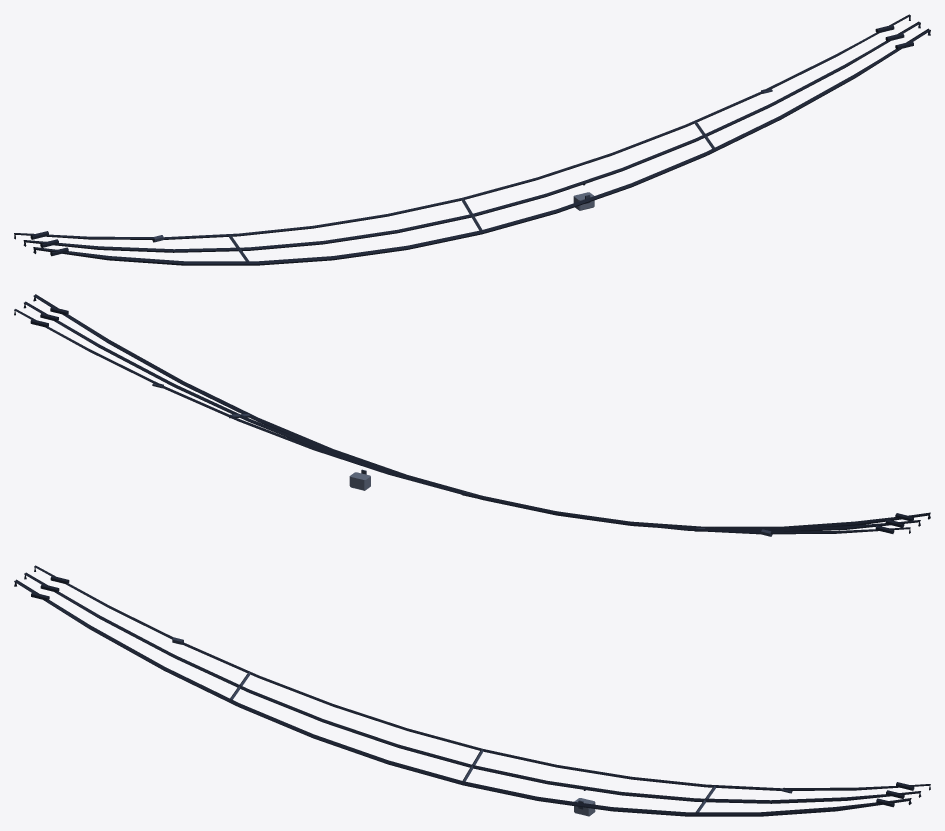
File: city_cable_span.glb
3 renders of one model, top to bottom at view 1: azimuth 30°, elevation 25°; view 2: azimuth 150°, elevation 25°; view 3: azimuth 330°, elevation 25°, orthographic.
Visible parts, largest first — view 1: cable_2, cable_1, cable_0; view 2: cable_0, cable_2, cable_1; view 3: cable_2, cable_1, cable_0.
Part boxes in pixels (x1,y1,x2,y2): cable_2: (33, 28, 930, 265); cable_1: (23, 21, 920, 252); cable_0: (14, 14, 913, 256); cable_0: (14, 307, 913, 534); cable_2: (33, 294, 930, 528); cable_1: (23, 301, 920, 531); cable_2: (14, 579, 911, 816); cable_1: (24, 572, 921, 803); cable_0: (31, 565, 930, 807).
Size of the model in its own units: 10 by 1.1 by 0.4294.
